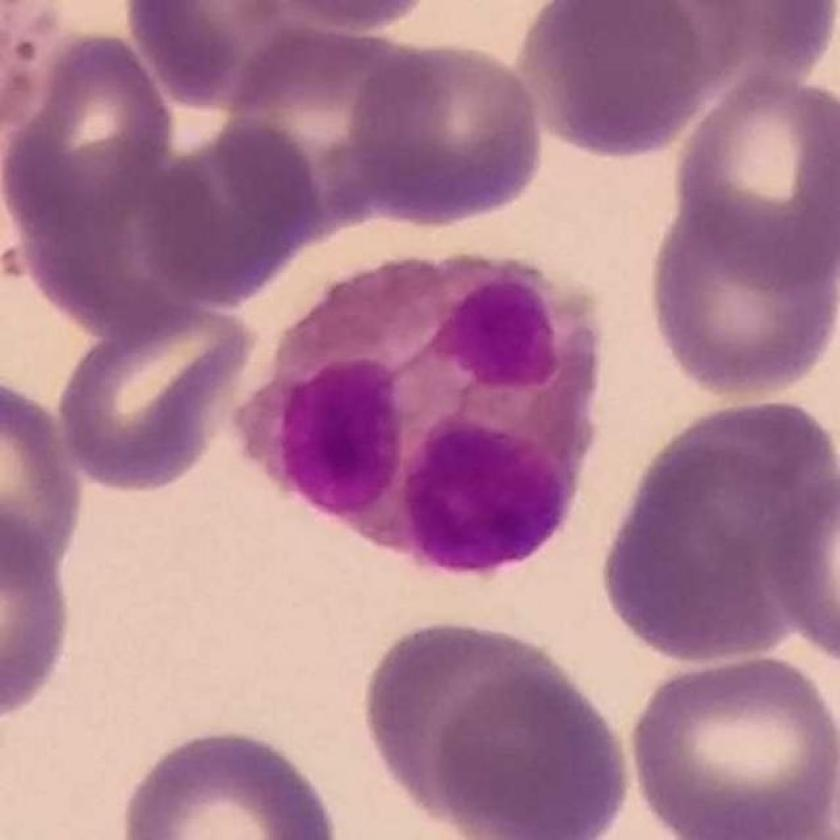eosinophil: (232, 253, 605, 576)
